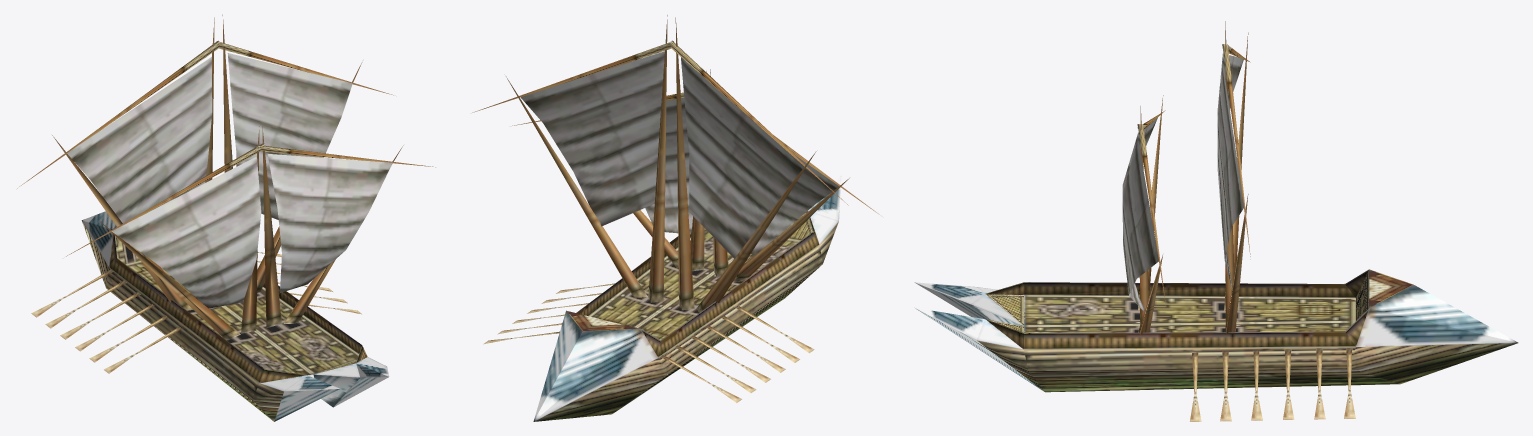
Rendered from attack.glb.
3 renders of one model, left to right at view 1: azimuth 30°, elevation 25°; view 2: azimuth 150°, elevation 25°; view 3: azimuth 270°, elevation 25°, orthographic. The views are drawn at different scales.
Parts seen in each view (by area): view 1: MeshRoot; view 2: MeshRoot; view 3: MeshRoot.
Boxes of the visible parts, bbox=[...] form: MeshRoot: bbox=[17, 14, 435, 421]; MeshRoot: bbox=[472, 15, 879, 421]; MeshRoot: bbox=[914, 21, 1518, 421].
Bounding box in the file's own units: 6.12 × 5.15 × 7.83.
Materials: 2 (2 with a texture image).
